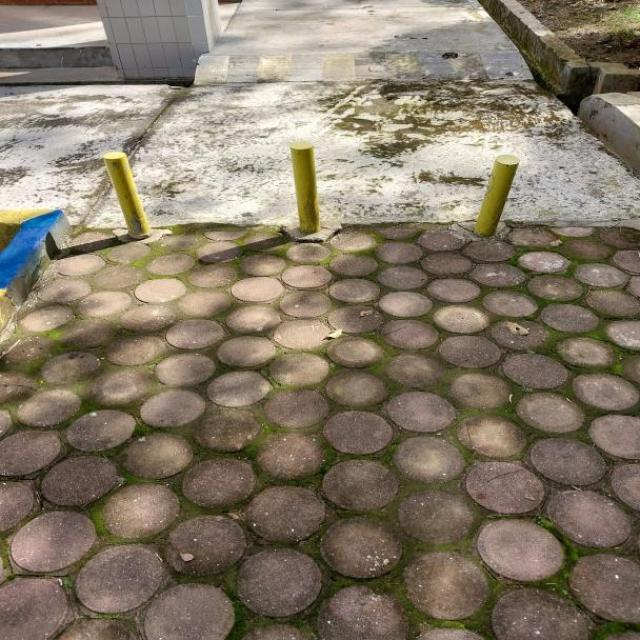barrier ahead at: (94, 146, 153, 244), (286, 143, 332, 231), (481, 154, 524, 245)
